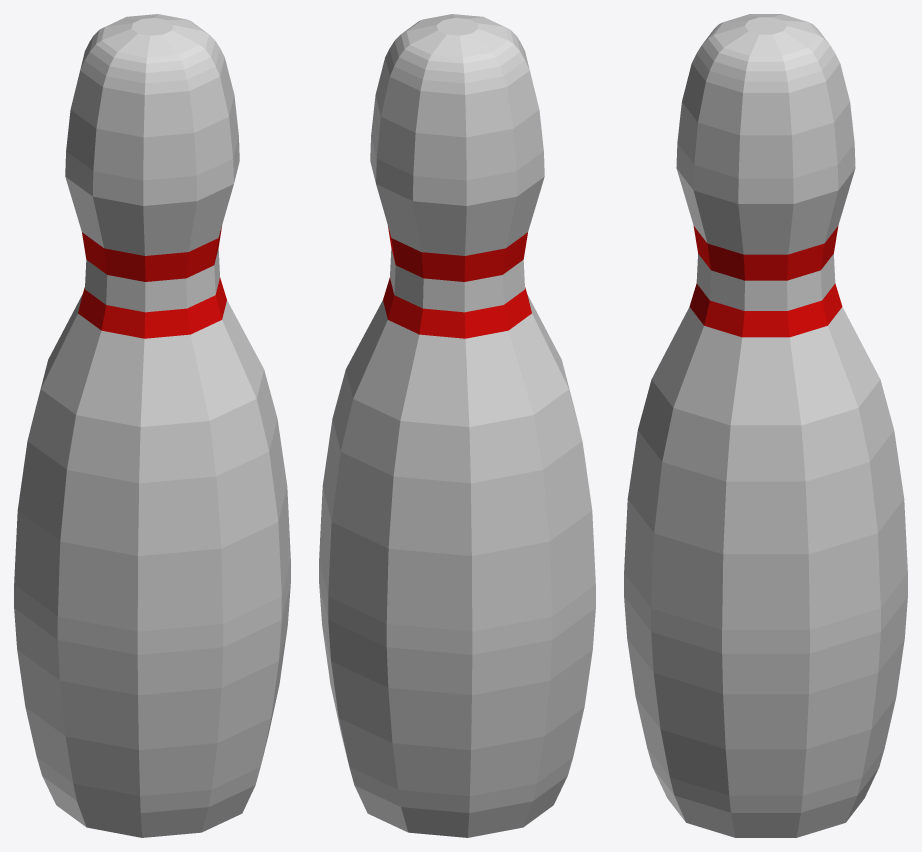
File: Bowling Pin.fbx
3 renders of one model, left to right at view 1: azimuth 30°, elevation 25°; view 2: azimuth 150°, elevation 25°; view 3: azimuth 270°, elevation 25°, orthographic.
Parts seen in each view (by area): view 1: Cylinder; view 2: Cylinder; view 3: Cylinder.
Part boxes in pixels (<box>): Cylinder: <box>14,14,290,837</box>; Cylinder: <box>319,14,595,837</box>; Cylinder: <box>624,14,907,837</box>.
Size of the model in its own units: 162 by 512 by 171.
